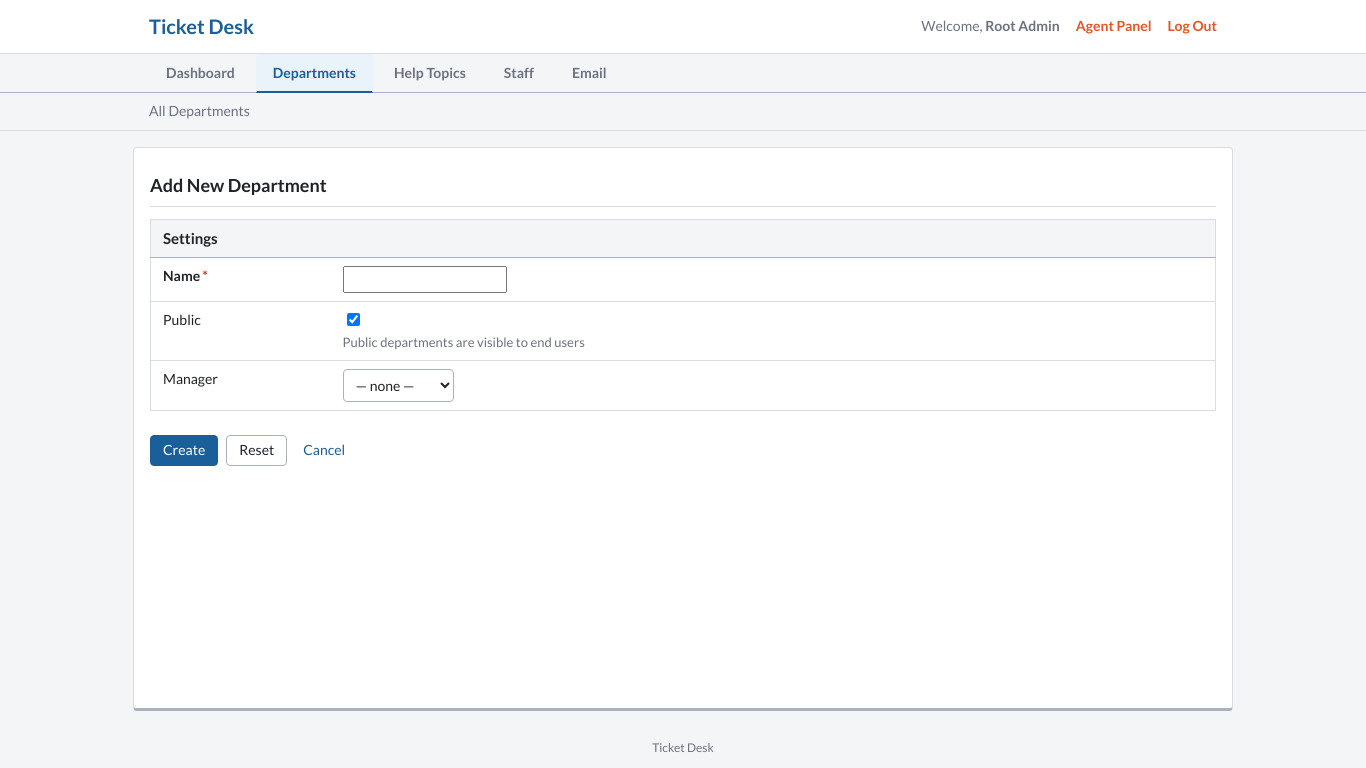
Test case: create submits the form, flashes, and returns to the list
The image size is (1366, 768).
Expected: the heading "Add New Department" is shown, [150,172,327,198]
Expected: the column heading "Settings" is shown, [150,219,1216,258]
Type "Sales EMEA" into the field labelled "Name*" at (424, 280), box [342,266,506,293]
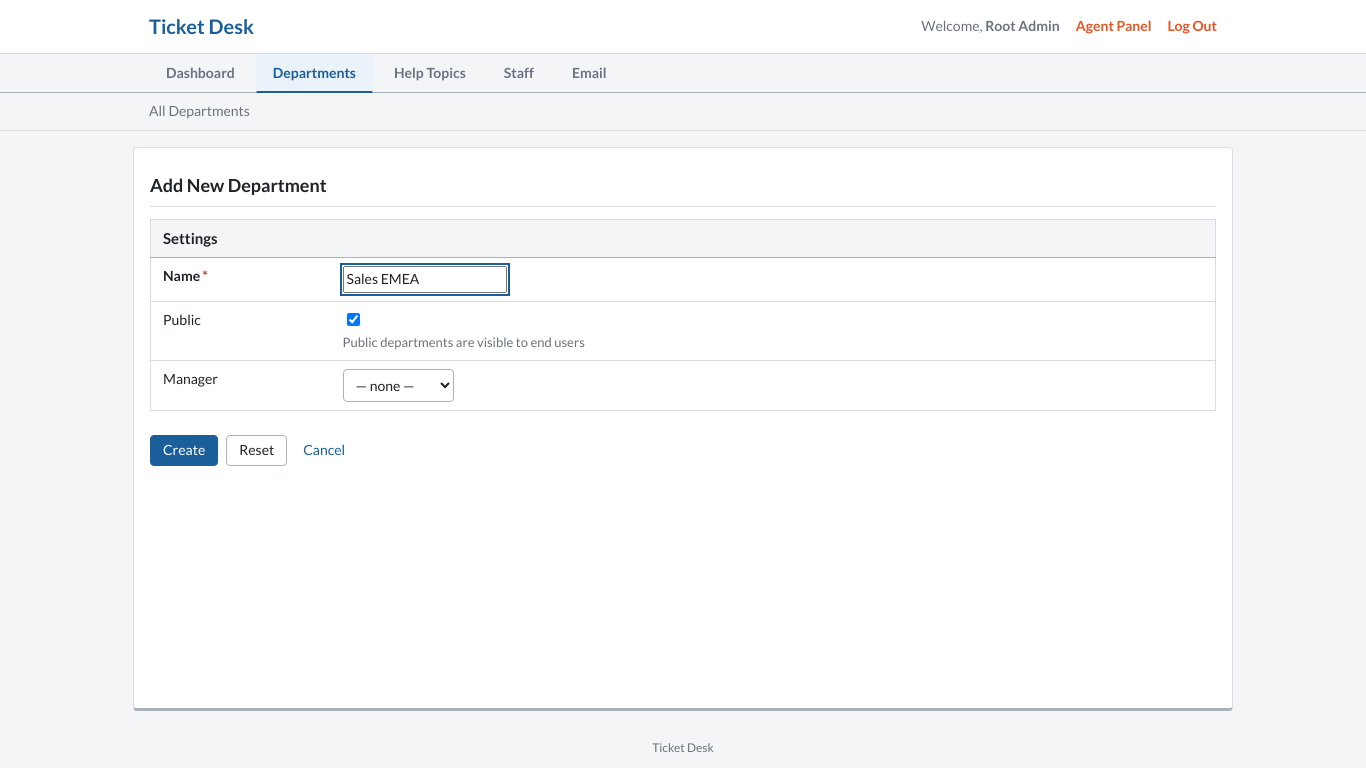
Click the checkbox labelled "Public" at (353, 319), box [346,313,360,326]
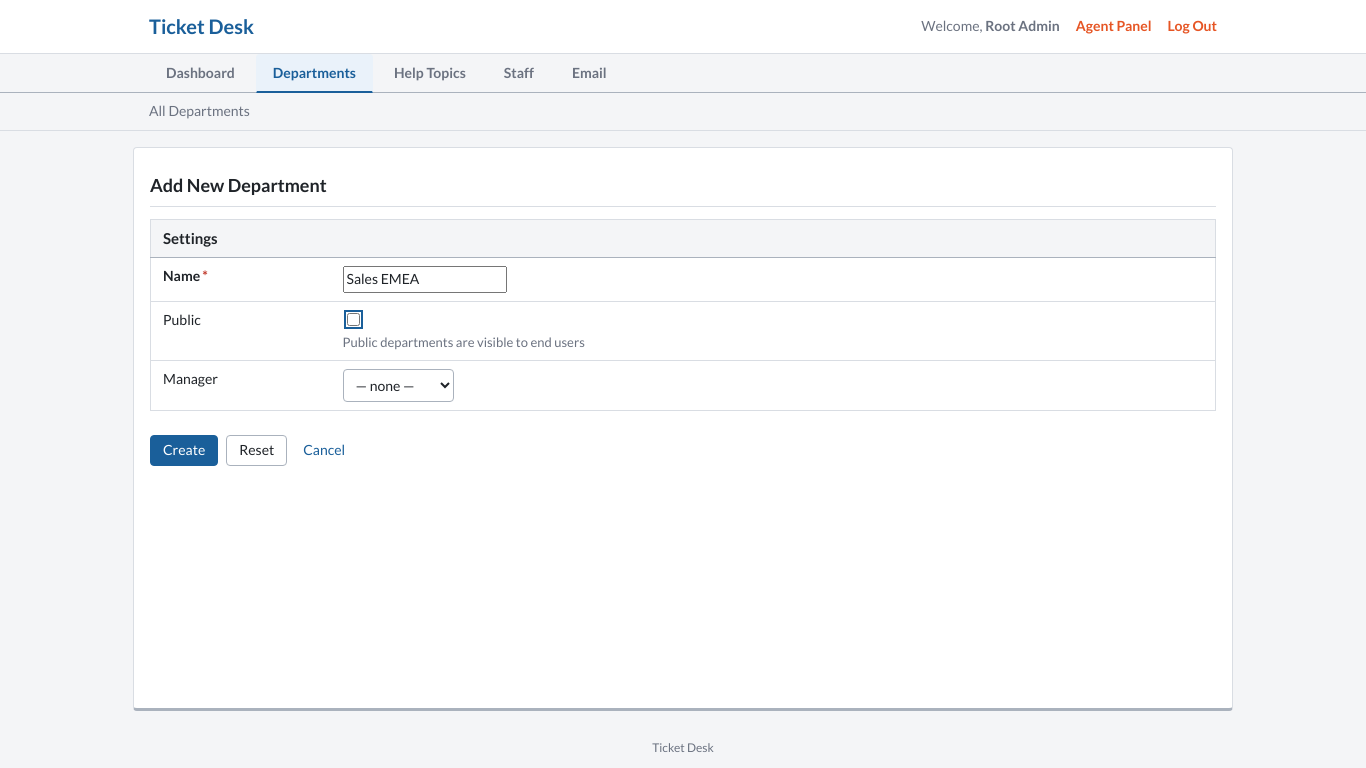
Select "Bob Billing" in the dropdown labelled "Manager" at (398, 385), box [342,369,454,402]
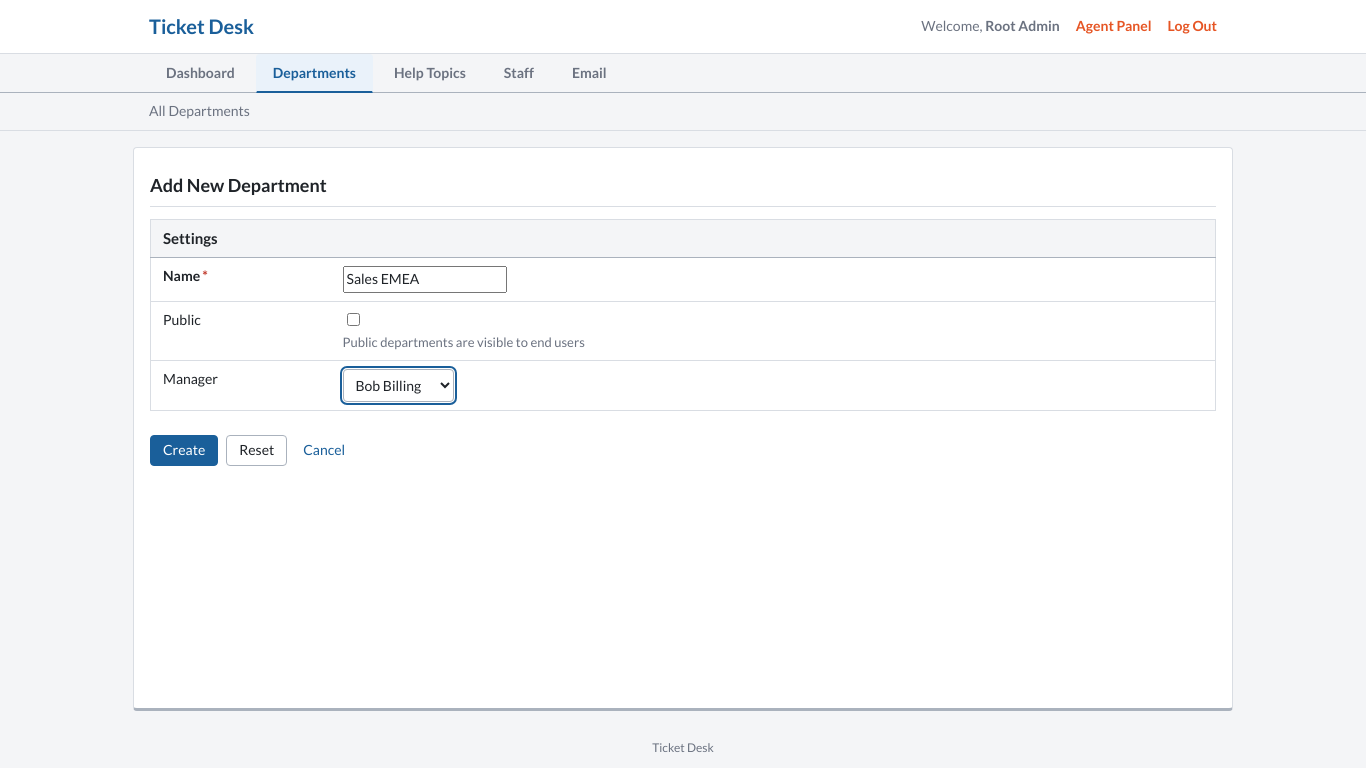
Click the button "Create" at (184, 450), box [150,435,218,466]
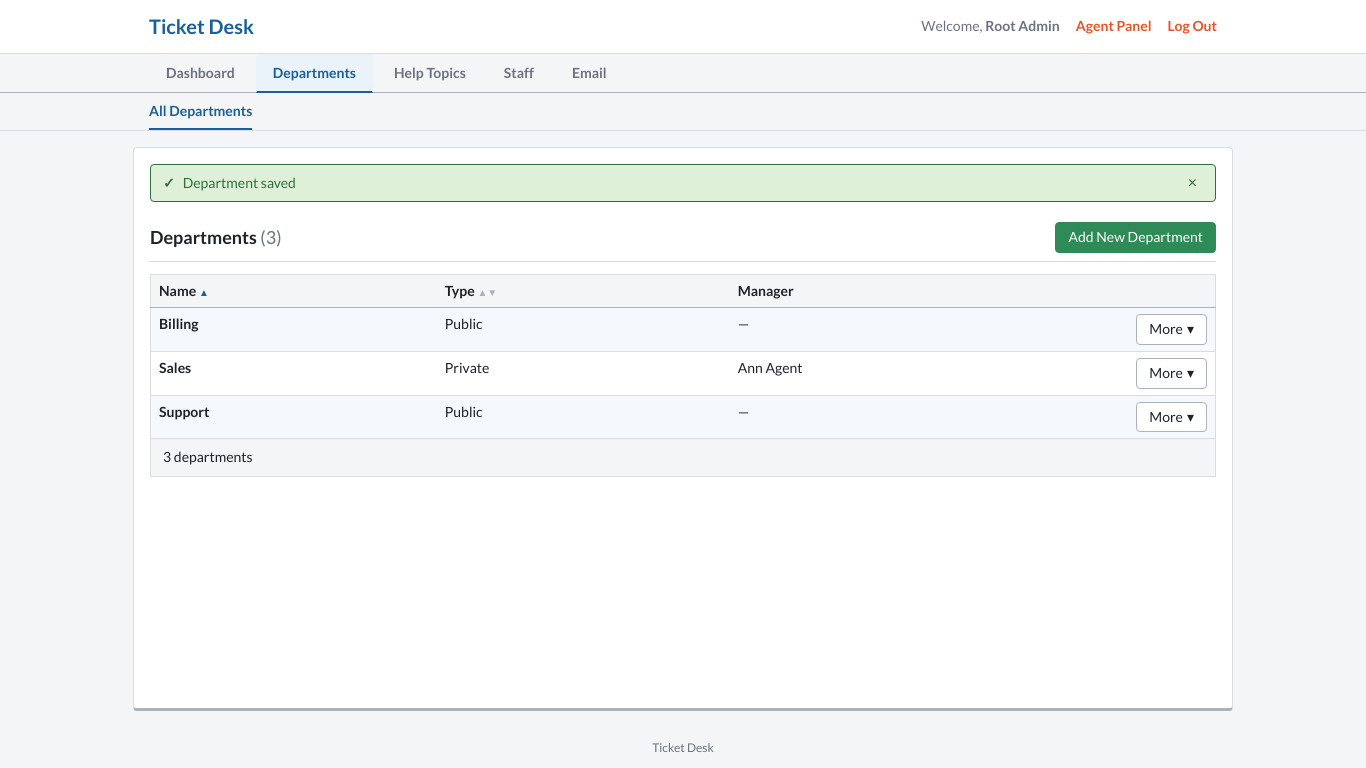
Expected: the heading "Departments (3)" is shown, [150,224,282,250]
Expected: the message shows "Department saved", [183,174,296,191]
